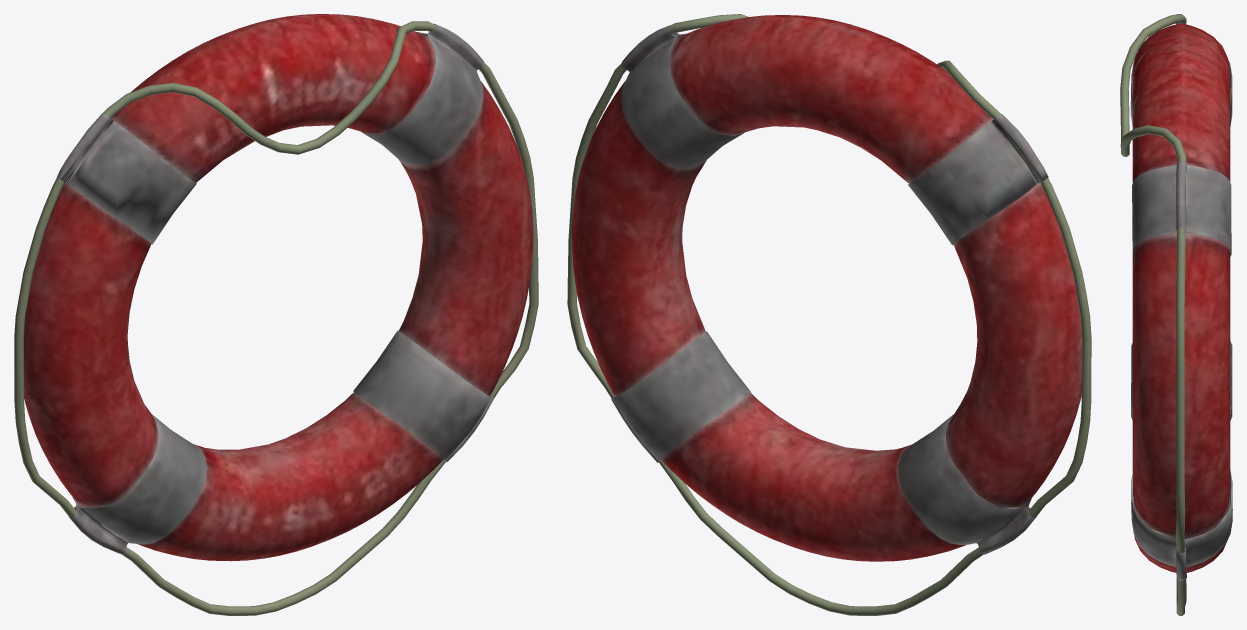
File: lifebuoy.gltf
The picture shows the model from 3 angles, left to right: view 1: azimuth 30°, elevation 25°; view 2: azimuth 150°, elevation 25°; view 3: azimuth 270°, elevation 25°; orthographic projection. The views are drawn at different scales.
Visible parts, largest first — view 1: lifebuoy; view 2: lifebuoy; view 3: lifebuoy.
Boxes of the visible parts, box(x1,y1,x2,y2) form: lifebuoy: box(14, 14, 538, 615); lifebuoy: box(567, 14, 1091, 615); lifebuoy: box(1120, 14, 1232, 615).
Size of the model in its own units: 0.783 by 0.8412 by 0.1551.
Materials: 1 (1 with a texture image).
